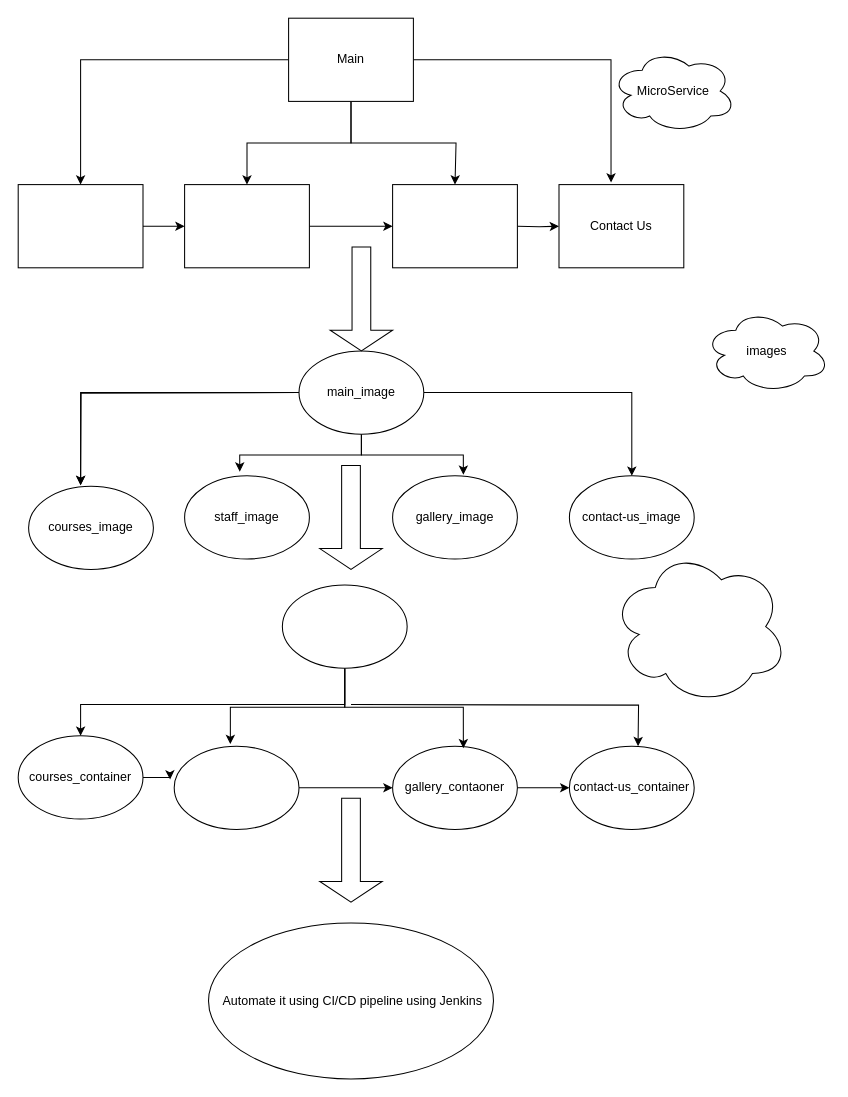
Some shapes in this 848 by 1097 pixel diagram are drawn without their labels. The shapes that lost their labels are listed below. From the top down, each one's centre as x and y in pixels, then its label:
At point 80,226: "Courses".
At point 246,226: "Staff".
At point 454,226: "Gallery".
At point 344,626: "main_container".
At point 699,626: "Container should be linked with main_container".
At point 236,787: "staff_container".
